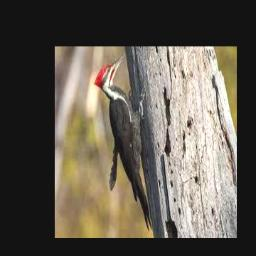Woodpecker: (94, 54, 153, 231)
